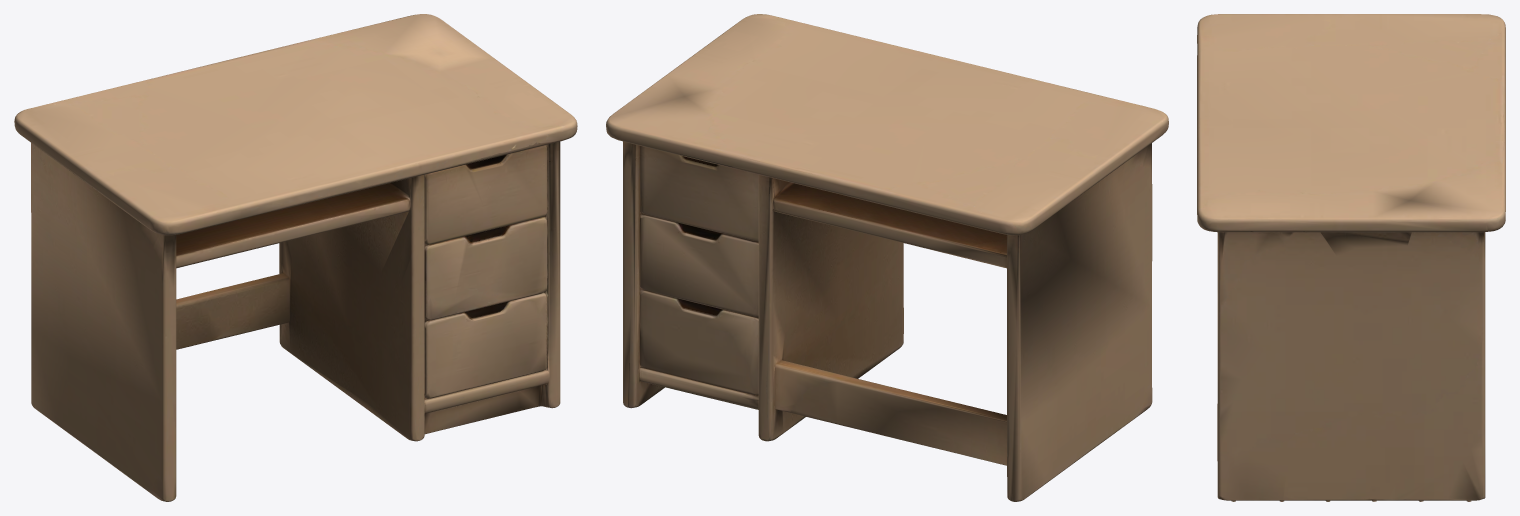
Rendered from desk.glb.
3 renders of one model, left to right at view 1: azimuth 30°, elevation 25°; view 2: azimuth 150°, elevation 25°; view 3: azimuth 270°, elevation 25°, orthographic.
Parts seen in each view (by area): view 1: node_0; view 2: node_0; view 3: node_0.
Boxes of the visible parts, box(x1,y1,x2,y2) form: node_0: box(14, 14, 577, 501); node_0: box(606, 14, 1168, 501); node_0: box(1197, 14, 1505, 501).
Bounding box in the file's own units: 0.9094 × 0.5996 × 0.575.
1 material, 1 textured.
